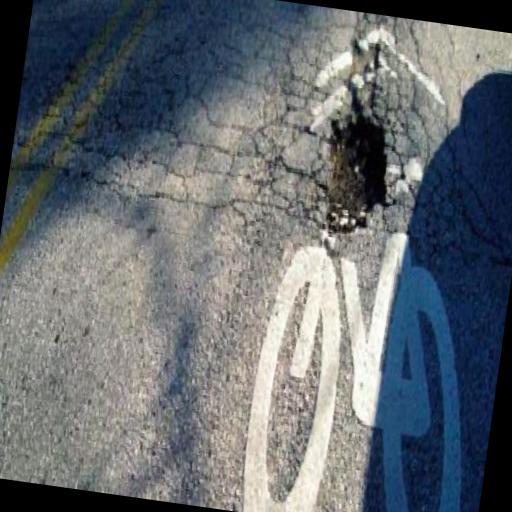pothole: (306, 96, 403, 252)
